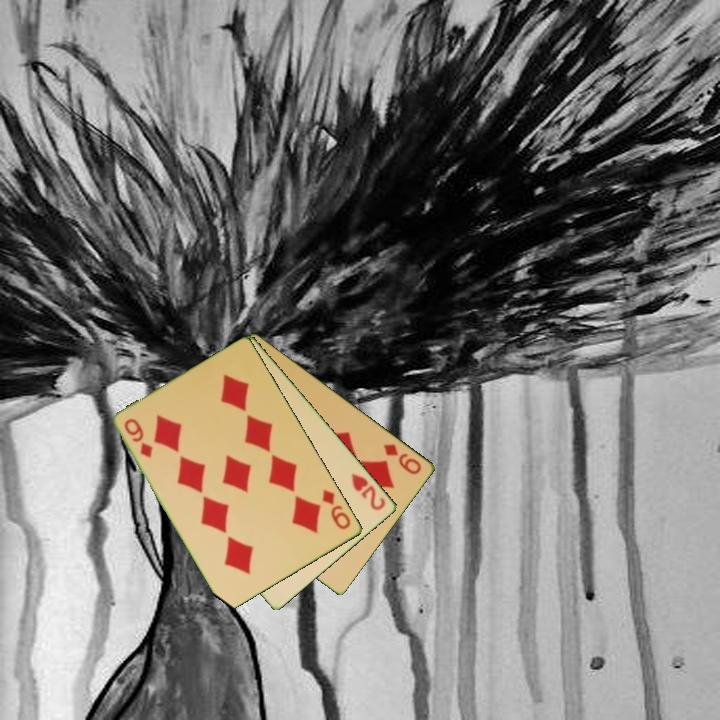2h: (348, 470, 389, 514)
9d: (380, 440, 425, 478), (319, 486, 354, 532), (121, 415, 156, 461)
